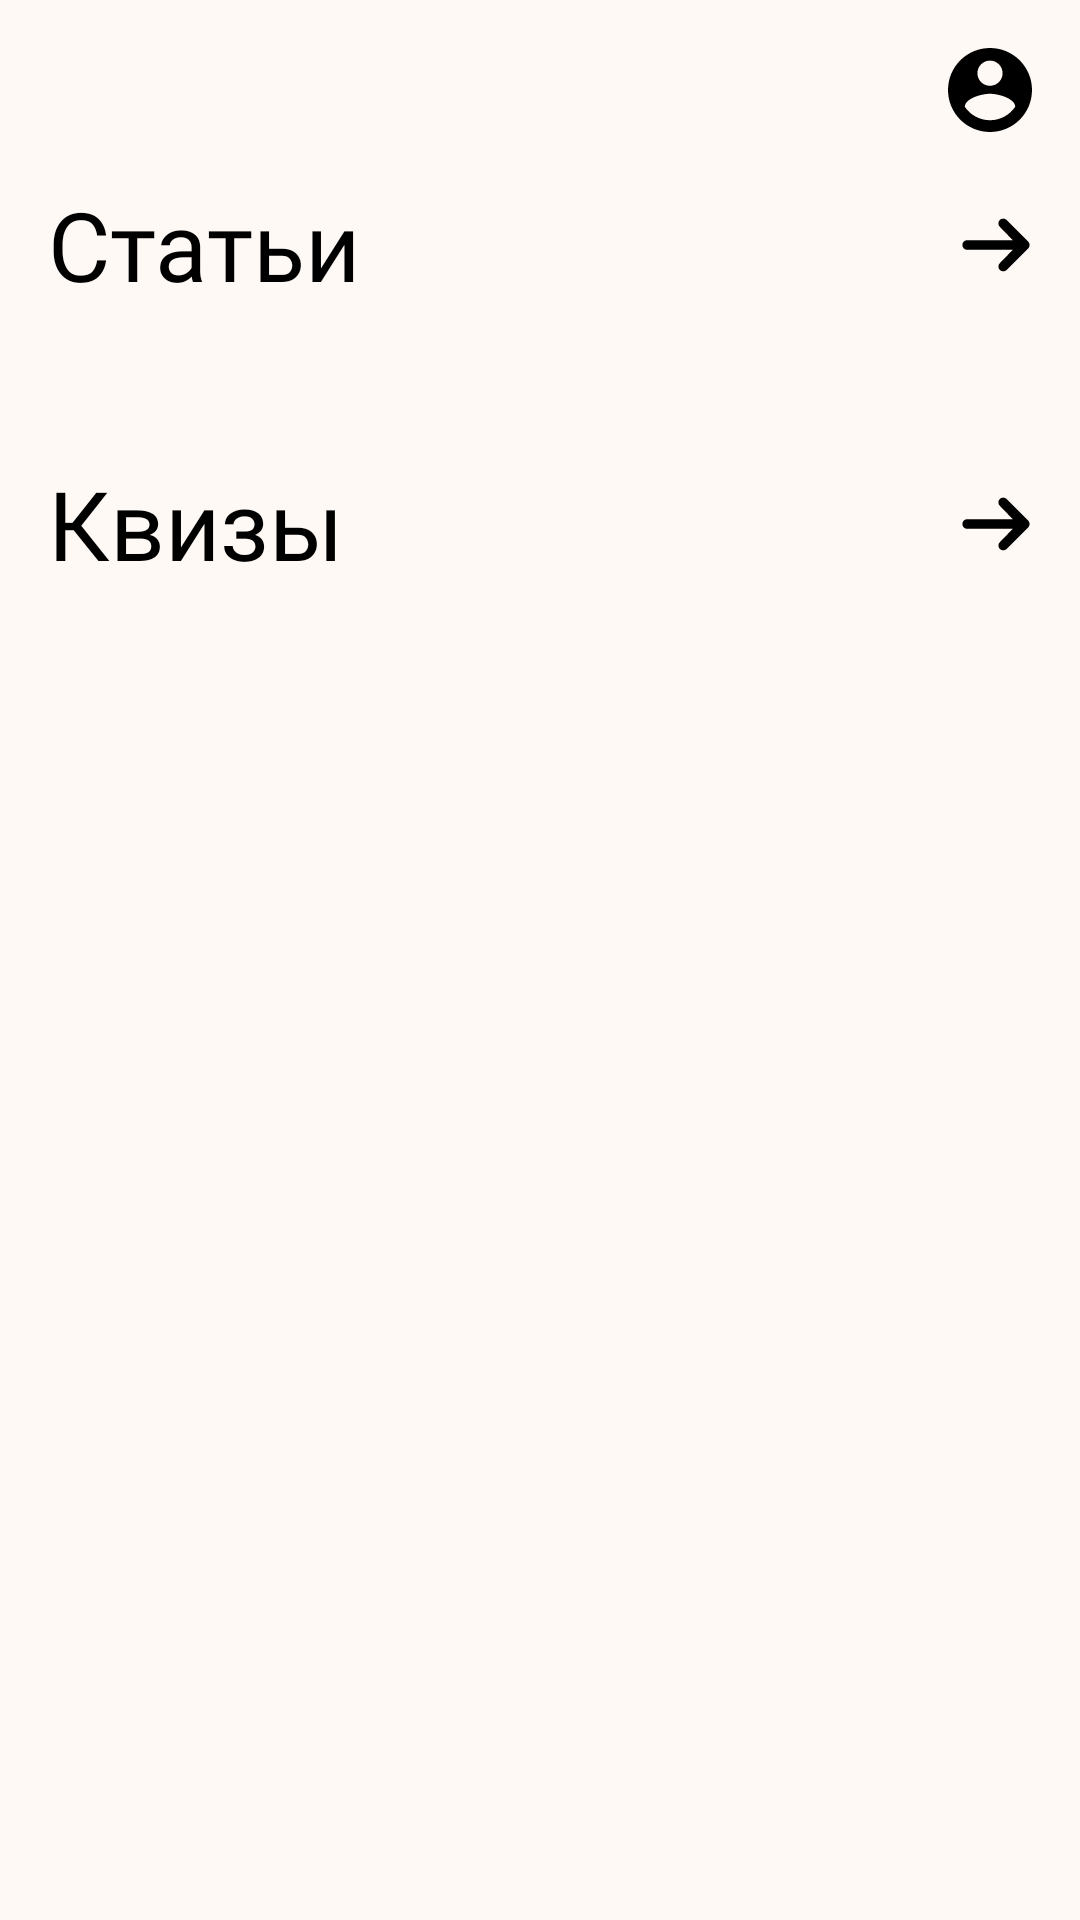

Point at icon controls on the screen. Image size 1080×1920, points as (x,y).
account circle: (990,90)
maki arrow: (996,245), (996,524)
